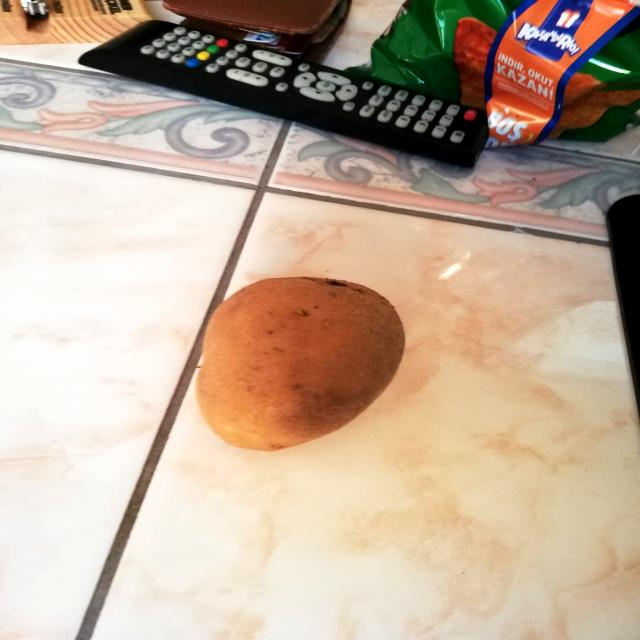potato: (186, 268, 415, 456)
